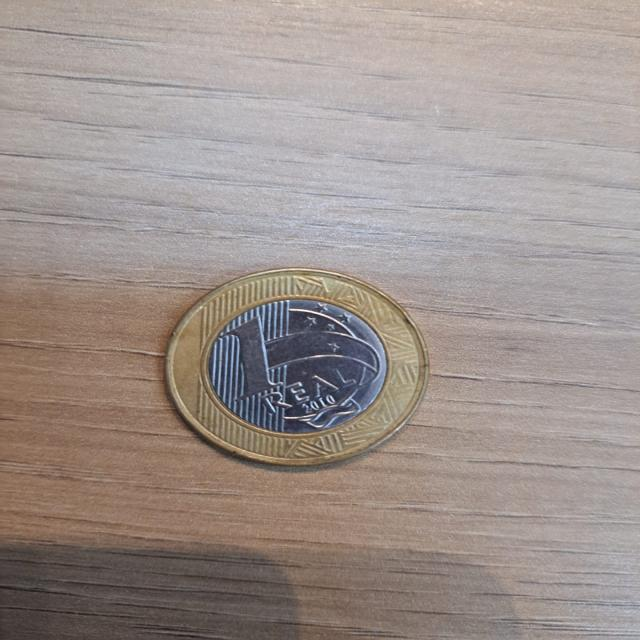1 real: (147, 262, 445, 470)
